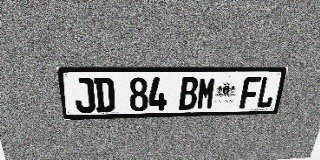4: (149, 77, 168, 111)
8: (129, 77, 148, 111)
B: (179, 77, 199, 110)
D: (94, 78, 115, 112)
F: (239, 77, 261, 108)
J: (72, 78, 96, 113)
L: (255, 76, 278, 108)
M: (196, 77, 217, 110)
